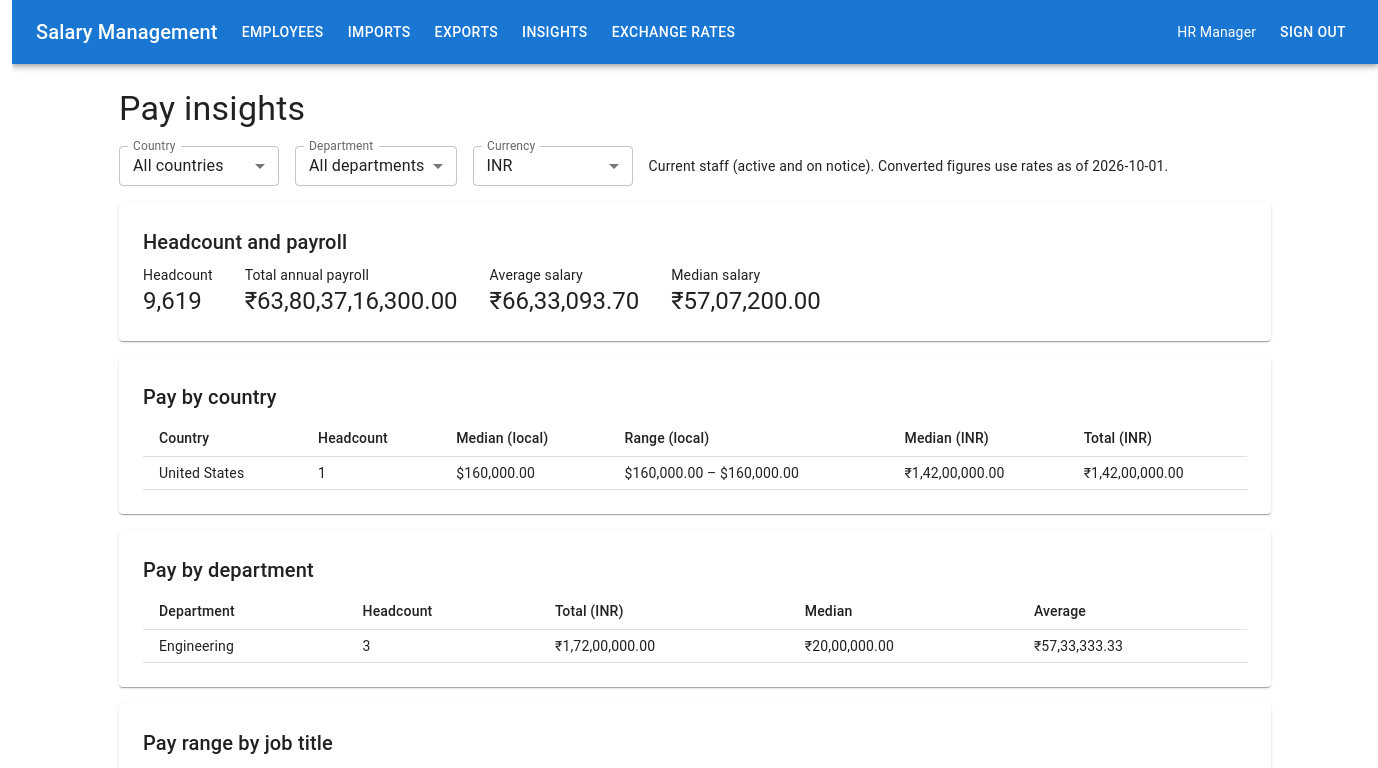
insights page › re-queries every currency-based answer when the currency changes
The image size is (1378, 768).
Expected: the heading "9,619" is shown, [143, 287, 202, 315]
Click the dropdown named "Currency" at (500, 166), box [486, 156, 513, 176]
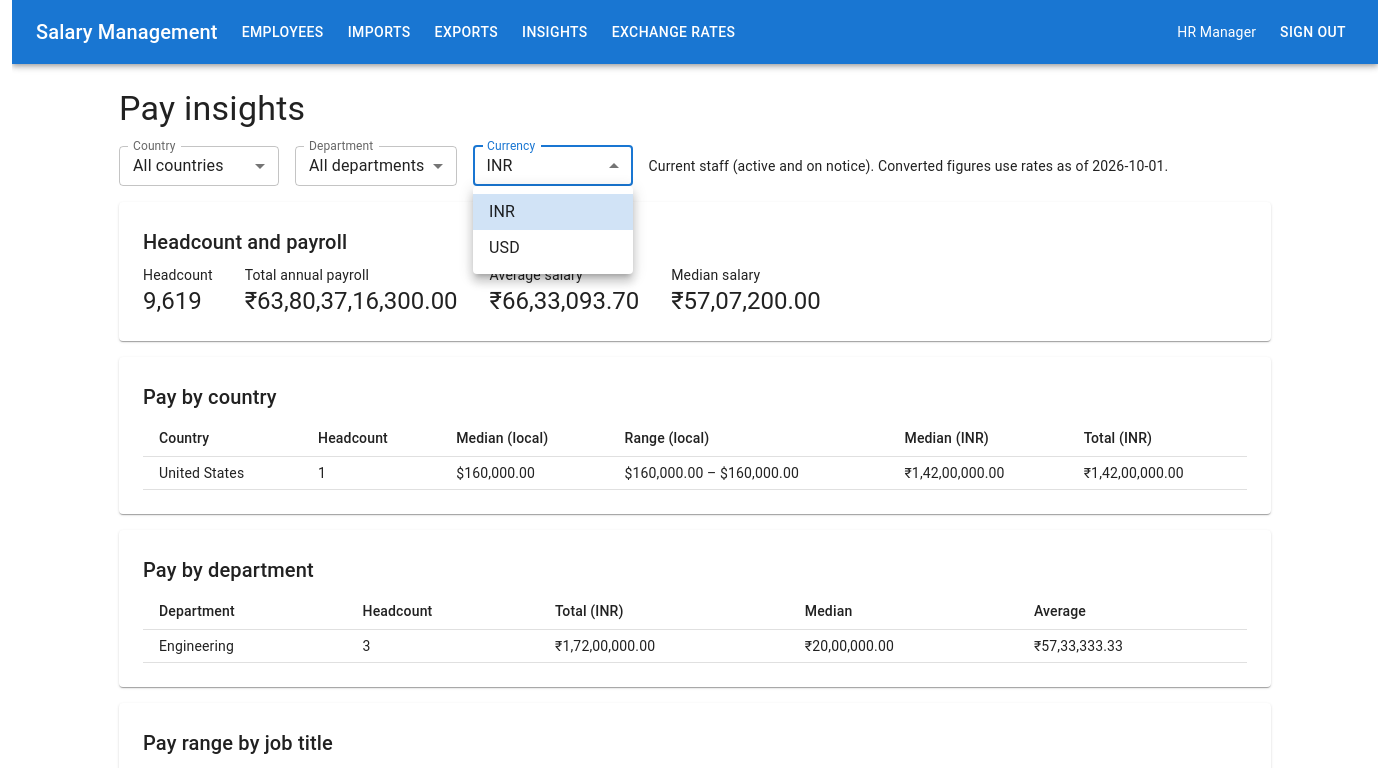
Click the option "USD" at (504, 248), box [489, 238, 520, 257]
(page scrolled)
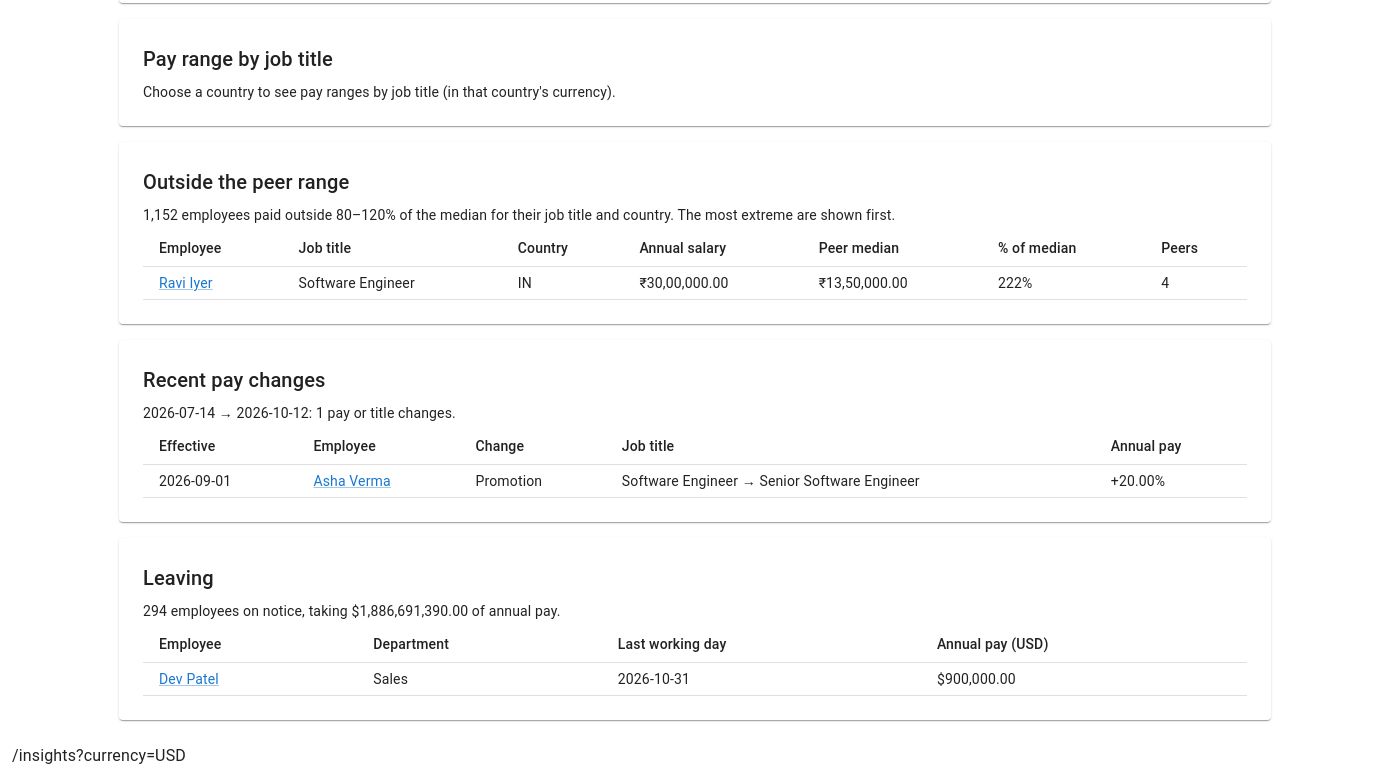
Now the text with test id "location" shows "currency=USD", box [12, 746, 186, 765]
